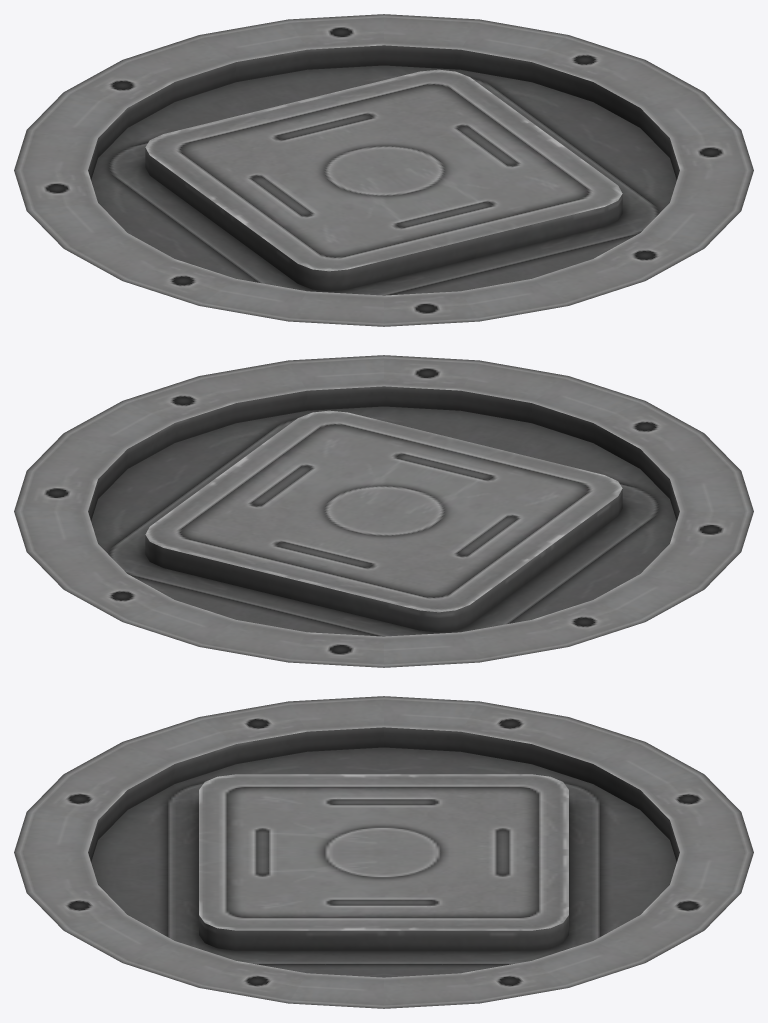
File: end_crew_s1.obj
3 views of the same model, one above another, from view 1: azimuth 30°, elevation 25°; view 2: azimuth 150°, elevation 25°; view 3: azimuth 270°, elevation 25° (orthographic).
Parts seen in each view (by area): view 1: mesh1; view 2: mesh1; view 3: mesh1.
Boxes of the visible parts, x1,y1,x2,y2 form: mesh1: (14,14,753,326); mesh1: (14,355,753,667); mesh1: (14,696,753,1008).
Bounding box in the file's own units: 1.25 × 0.0375 × 1.25.
Materials: 1 (1 with a texture image).
